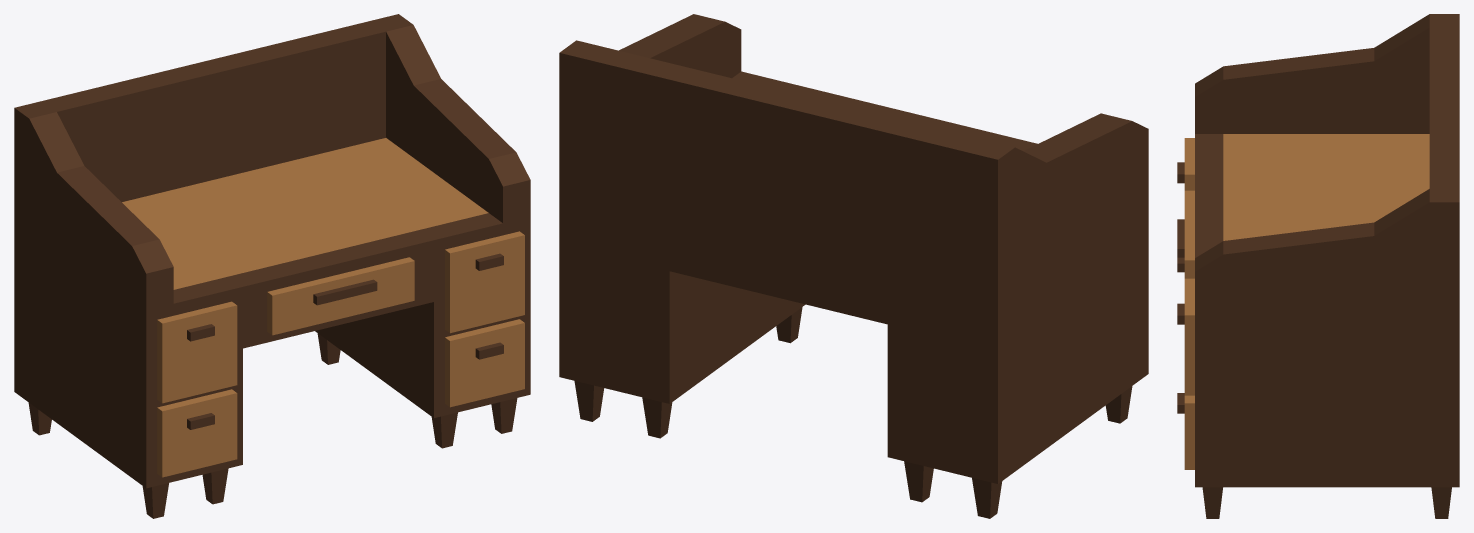
The model's file is Desk.fbx.
3 renders of one model, left to right at view 1: azimuth 30°, elevation 25°; view 2: azimuth 150°, elevation 25°; view 3: azimuth 270°, elevation 25°, orthographic. The views are drawn at different scales.
Visible parts, largest first — view 1: Desk; view 2: Desk; view 3: Desk.
Boxes of the visible parts, box(x1,y1,x2,y2) form: Desk: box(14, 14, 530, 518); Desk: box(559, 14, 1148, 518); Desk: box(1177, 14, 1459, 518).
Size of the model in its own units: 1.76 by 1.41 by 1.12.
